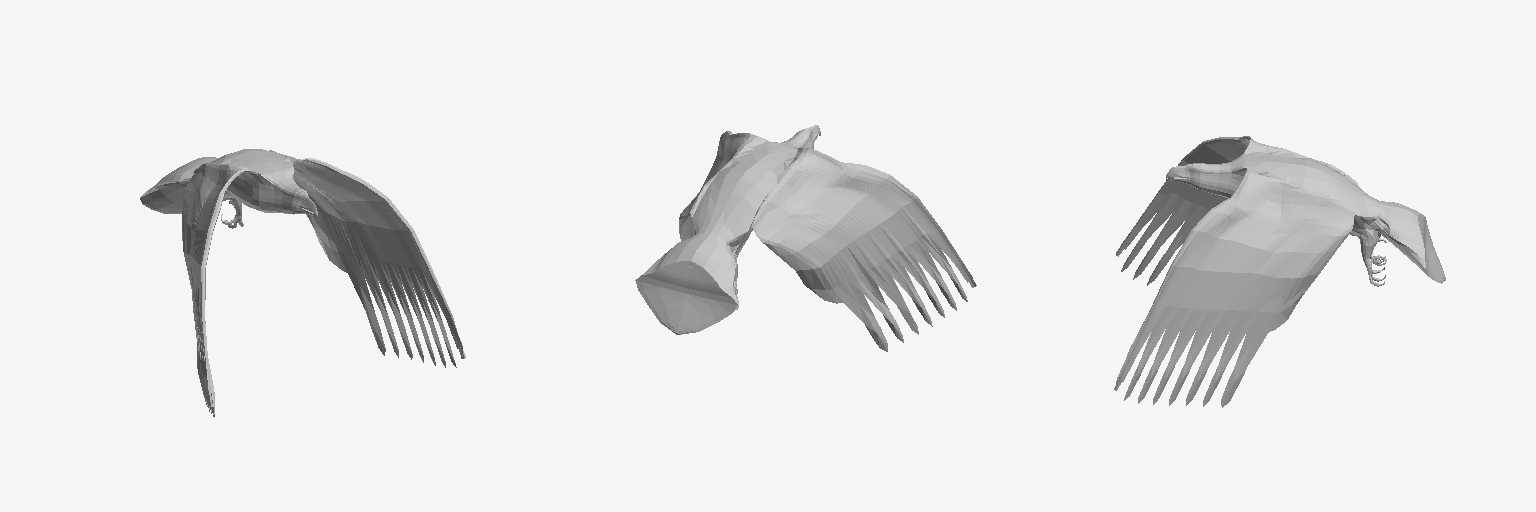
Rendered from Eagle-original_000017.obj.
3 views of the same model, side by side, from view 1: azimuth 30°, elevation 25°; view 2: azimuth 150°, elevation 25°; view 3: azimuth 270°, elevation 25° (orthographic).
Parts seen in each view (by area): view 1: Flugel_Plane.003; view 2: Flugel_Plane.003; view 3: Flugel_Plane.003.
Part boxes in pixels (x1,y1,x2,y2): Flugel_Plane.003: (140,149,465,416); Flugel_Plane.003: (635,125,976,351); Flugel_Plane.003: (1114,136,1445,407).
Bounding box in the file's own units: 5.82 × 4.54 × 6.6.